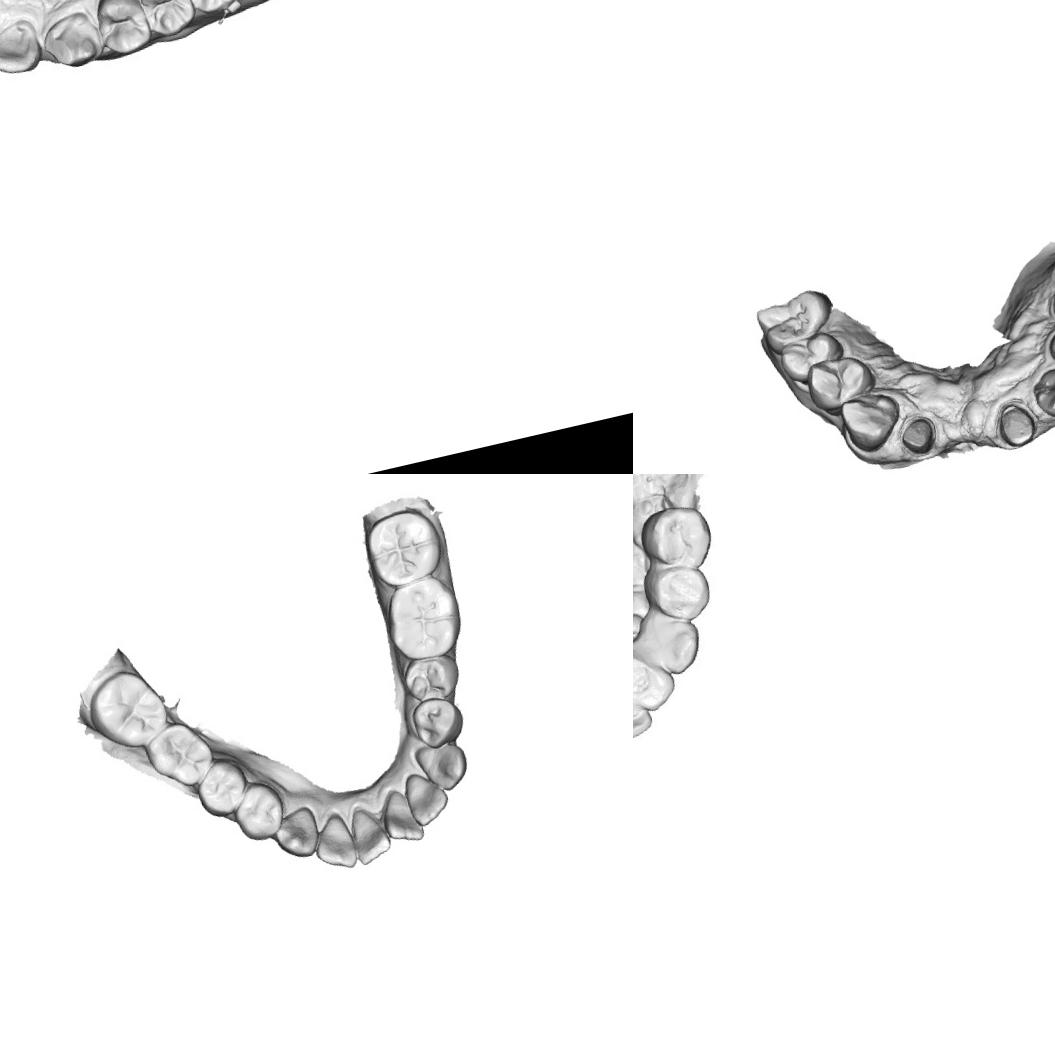canine: (836, 388, 906, 458), (36, 6, 106, 75), (644, 608, 708, 683), (412, 736, 474, 798), (267, 802, 324, 864)
crown: (988, 393, 1042, 454), (895, 412, 941, 457)
incisor: (308, 809, 360, 876), (401, 766, 454, 830), (633, 645, 679, 717), (346, 802, 396, 868), (374, 785, 426, 848), (0, 15, 47, 82), (1026, 360, 1055, 423), (633, 688, 658, 743)
molar: (80, 662, 175, 758), (377, 572, 470, 666), (358, 502, 448, 592), (140, 714, 220, 796), (753, 286, 838, 354), (775, 327, 849, 386)
premolar: (633, 498, 721, 576), (638, 555, 717, 631), (802, 349, 878, 416), (224, 774, 290, 846), (190, 752, 256, 822), (87, 0, 155, 59), (398, 650, 466, 708), (408, 692, 470, 753), (132, 0, 200, 40)
